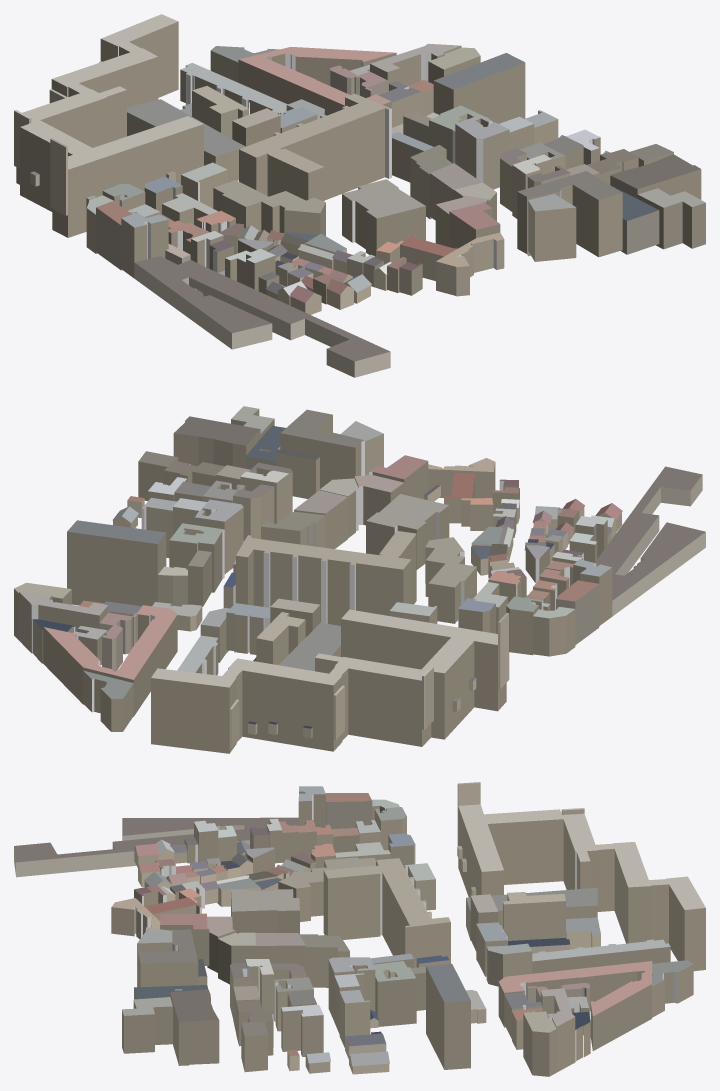
3 views of the same model, one above another, from view 1: azimuth 30°, elevation 25°; view 2: azimuth 150°, elevation 25°; view 3: azimuth 270°, elevation 25° (orthographic). The views are drawn at different scales.
Visible parts, largest first — view 1: tuile; view 2: tuile; view 3: tuile.
Boxes of the visible parts, x1=… form: tuile: x1=14, y1=14, x2=705, y2=377; tuile: x1=14, y1=406, x2=705, y2=753; tuile: x1=14, y1=782, x2=705, y2=1076.
Size of the model in its own units: 248 by 45.64 by 320.
